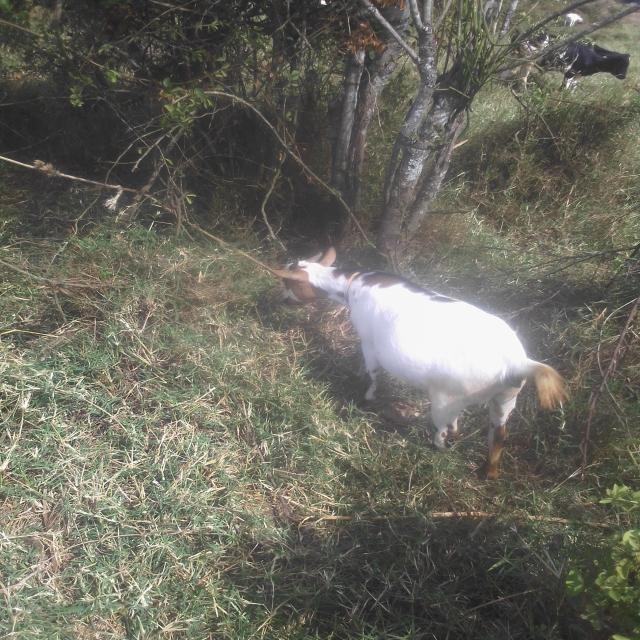goat: (242, 204, 593, 479)
